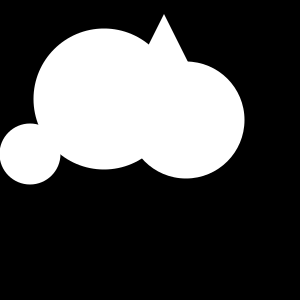circle: (118, 130, 145, 157)
rectangle: (34, 29, 174, 169), (128, 62, 244, 178), (0, 123, 60, 184)
triangle: (118, 14, 210, 106)
